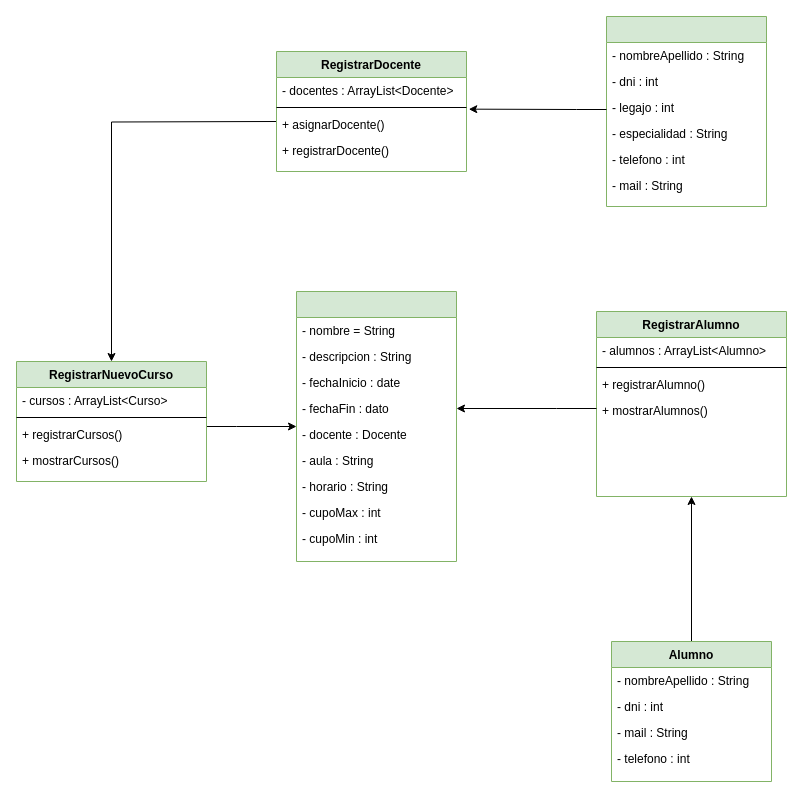
This 803x798 diagram has some shape labels left out. Each missing label, with the box of its shape:
Curso: (296, 290, 456, 562)
Docente: (606, 16, 766, 206)
